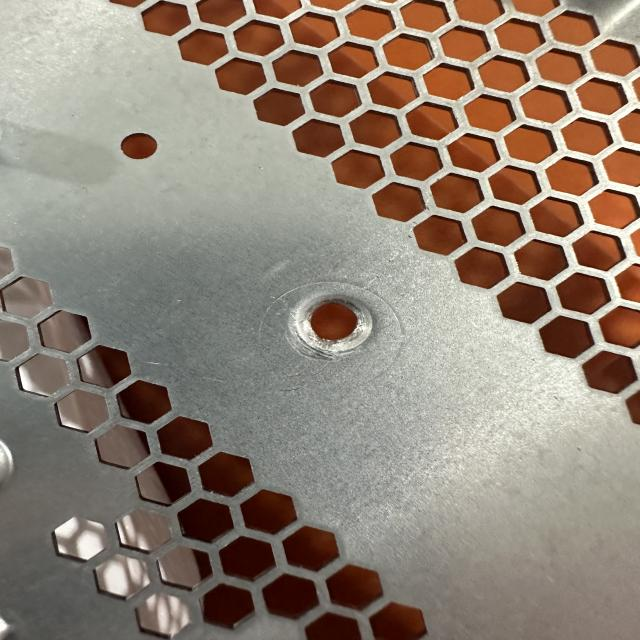Missing screw: (271, 277, 391, 366)
